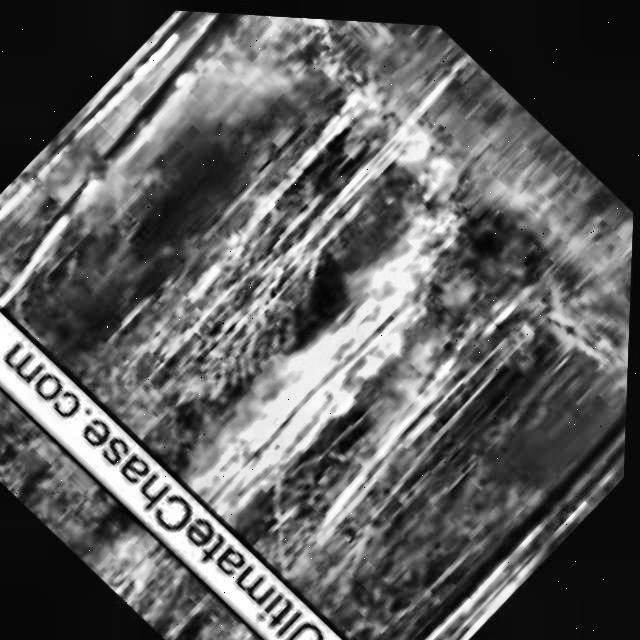Fire: (164, 219, 451, 533), (304, 59, 515, 266), (84, 519, 169, 604)
